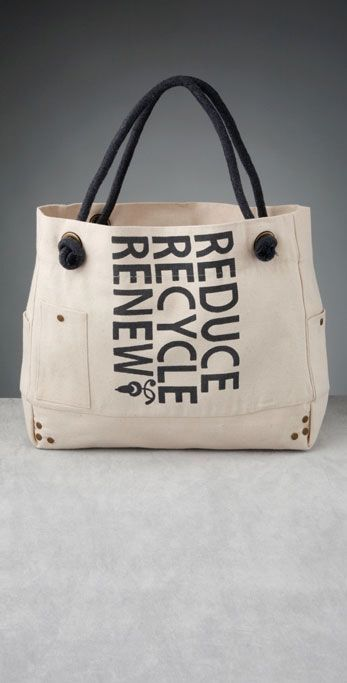nylon: (19, 200, 330, 452)
